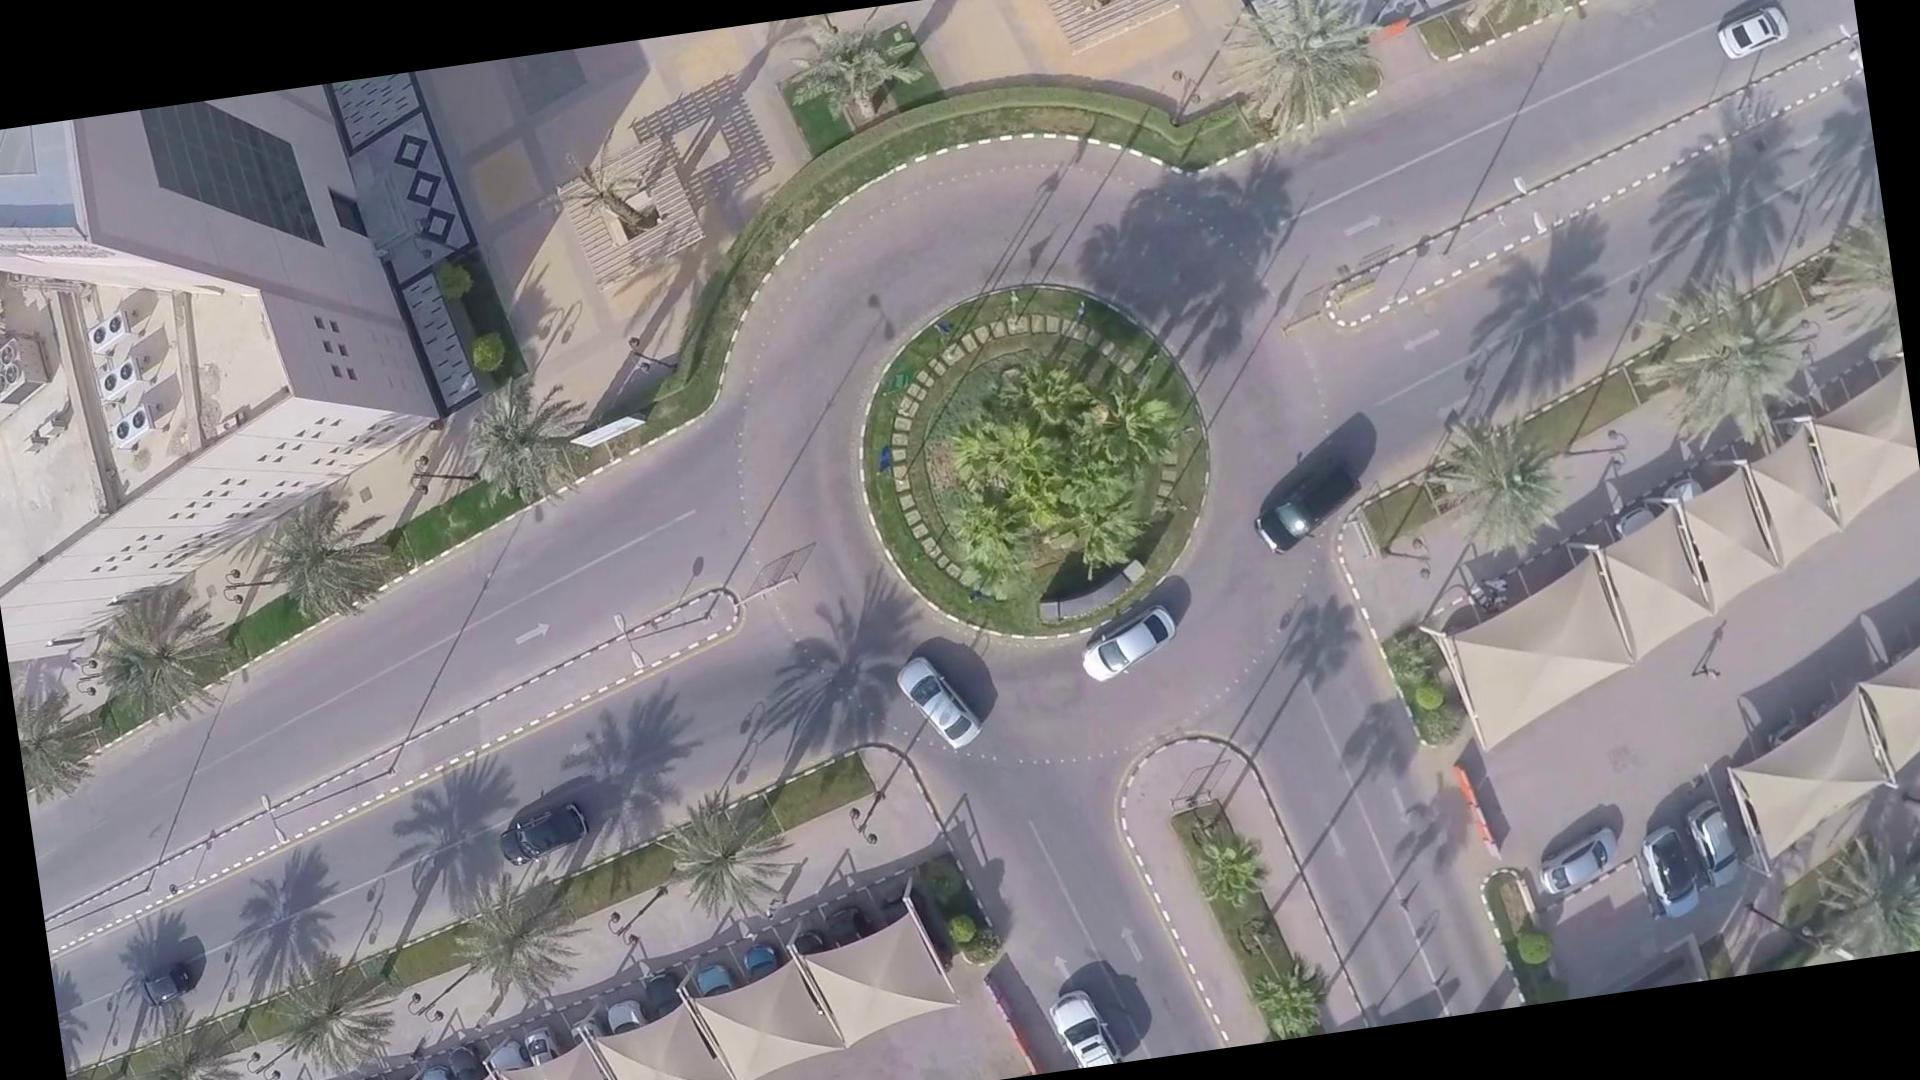vehicle: (1252, 452, 1374, 558), (484, 796, 604, 873), (1077, 606, 1183, 691), (904, 656, 982, 760), (1034, 983, 1110, 1072), (1715, 0, 1797, 66), (131, 956, 208, 1004)
